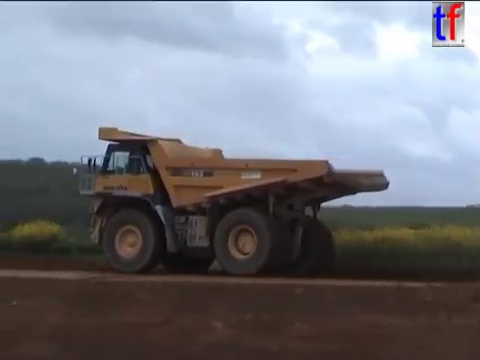truck: (70, 124, 394, 278)
